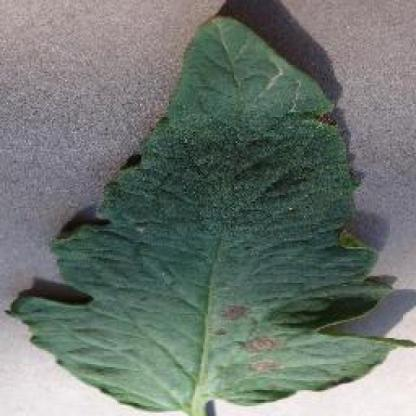Tomato_Blight: (11, 18, 412, 409)
